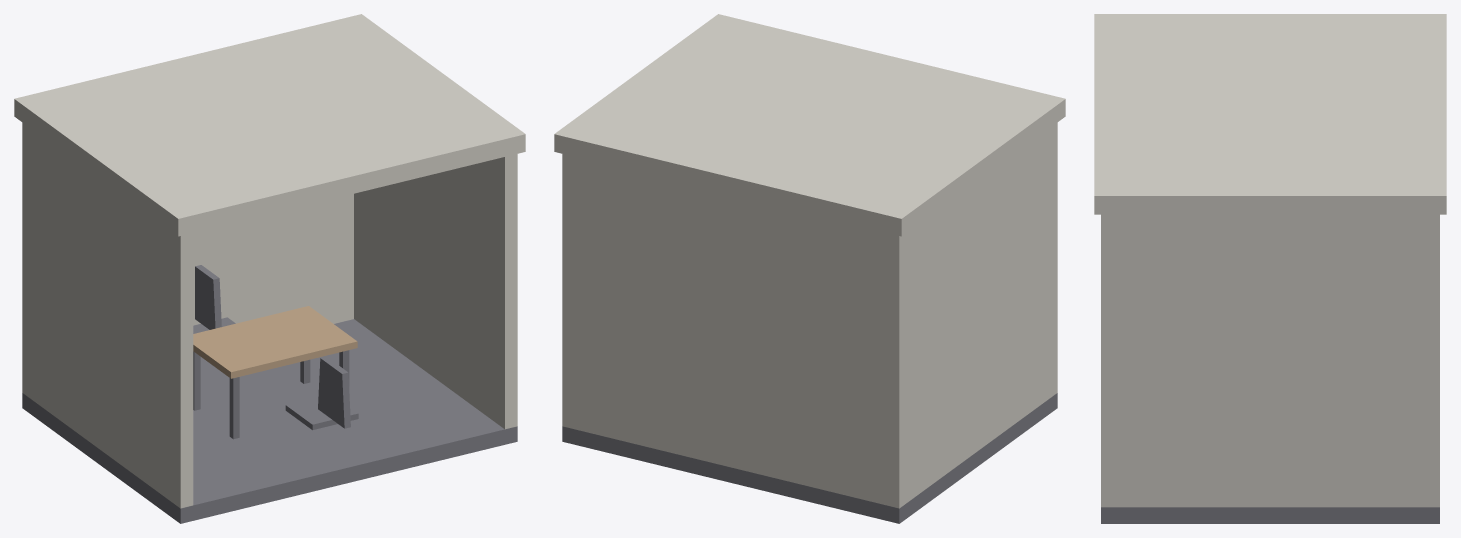
Rendered from casino-floor-and-back-rooms-interview-office-b299bd7c__27074.glb.
3 views of the same model, side by side, from view 1: azimuth 30°, elevation 25°; view 2: azimuth 150°, elevation 25°; view 3: azimuth 270°, elevation 25° (orthographic). The views are drawn at different scales.
Parts seen in each view (by area): view 1: interview-office; view 2: interview-office; view 3: interview-office.
Boxes of the visible parts, bbox=[...] form: interview-office: bbox=[14, 14, 525, 523]; interview-office: bbox=[554, 14, 1065, 523]; interview-office: bbox=[1094, 14, 1446, 523].
Size of the model in its own units: 3.3 by 2.8 by 2.7.
